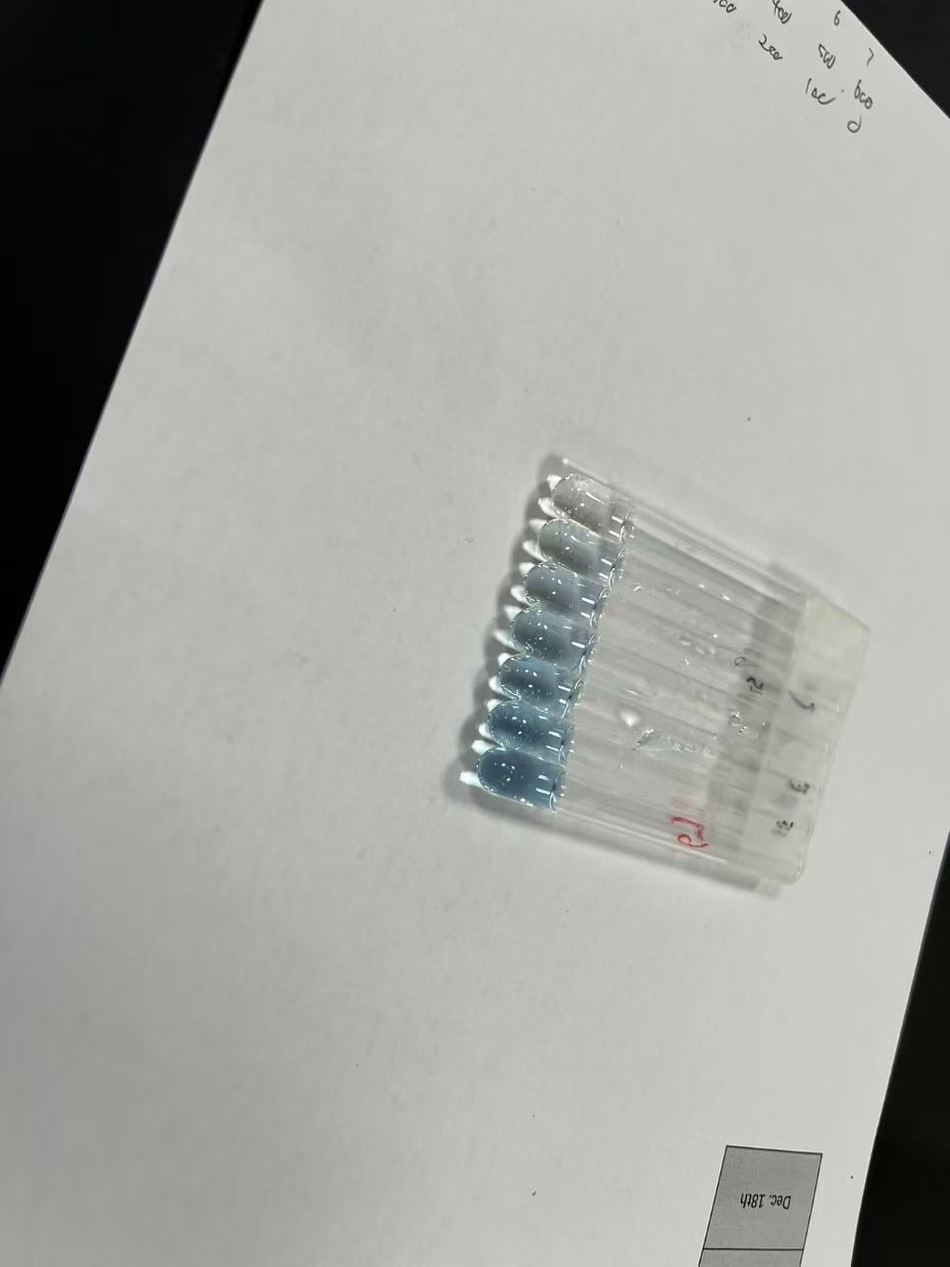drop: (550, 472, 644, 545), (477, 744, 567, 817), (522, 559, 609, 633), (538, 517, 625, 590), (488, 698, 576, 768), (511, 608, 596, 677), (498, 655, 582, 722)
